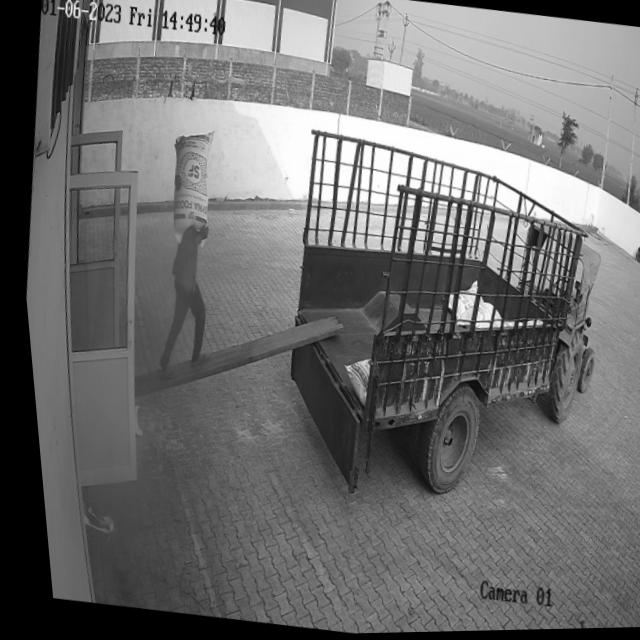sack: (157, 127, 218, 245)
